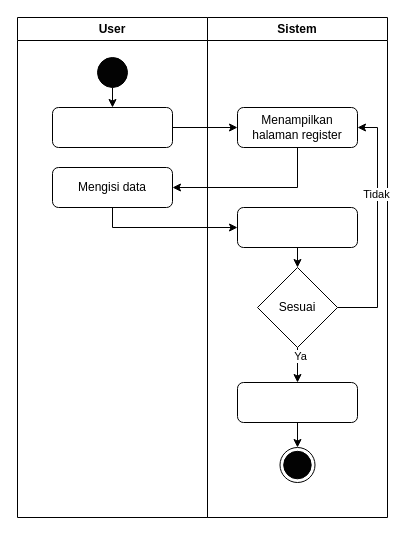
Some shapes in this 407 by 535 pixel diagram are drawn without their labels. Here are the shapes that lost their labels. From the top down, the centre of each, then its label:
At (112,127): "Halaman Register".
At (297,227): "Mengecek kesesuaian data".
At (297,402): "Tampilkan Menu".
